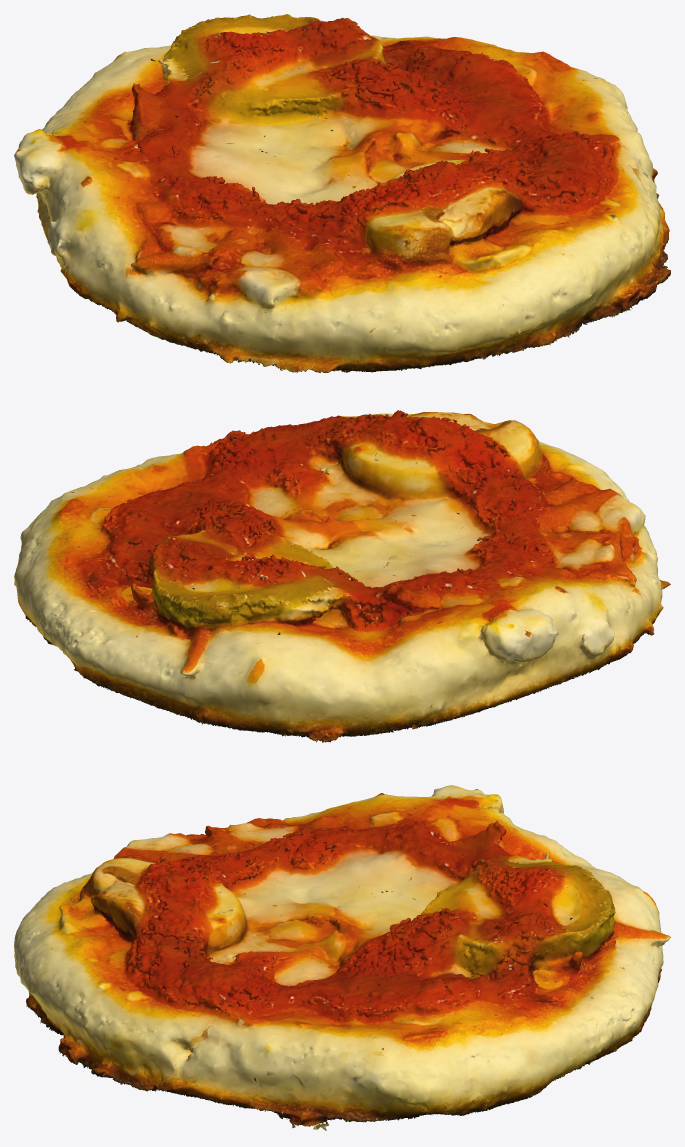
The model's file is metashape_pizza2_polished_m.glb.
The picture shows the model from 3 angles, top to bottom: view 1: azimuth 30°, elevation 25°; view 2: azimuth 150°, elevation 25°; view 3: azimuth 270°, elevation 25°; orthographic projection. The views are drawn at different scales.
Visible parts, largest first — view 1: Scan; view 2: Scan; view 3: Scan.
Part boxes in pixels (x1,y1,x2,y2): Scan: (14,14,670,372); Scan: (14,410,670,742); Scan: (14,785,670,1130).
Bounding box in the file's own units: 0.289 × 0.0668 × 0.3.
2 materials, 1 textured.
